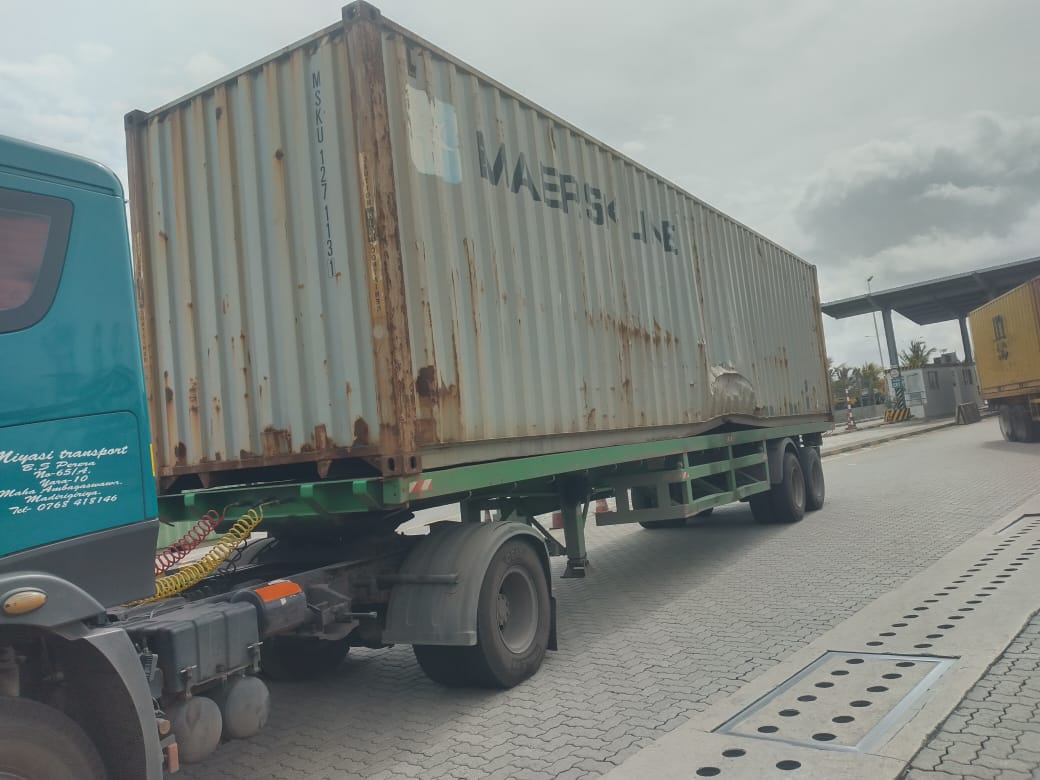bulged: (685, 353, 767, 409)
rust: (171, 420, 373, 470), (383, 350, 468, 419), (590, 300, 686, 356)
